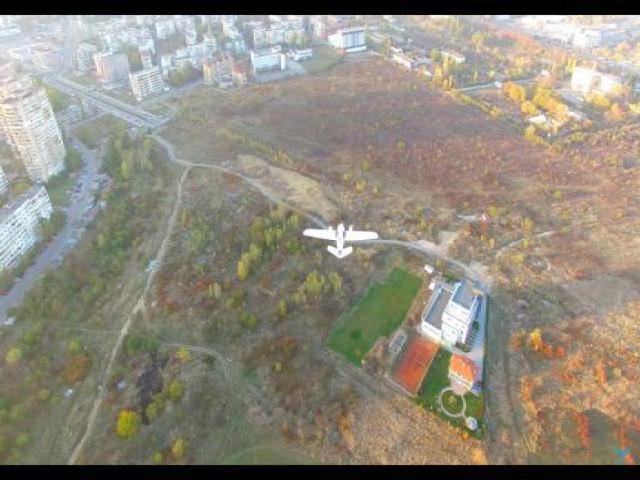uav: (300, 216, 385, 263)
